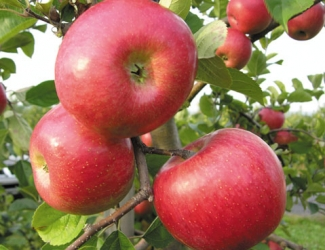apple: (54, 1, 197, 139), (151, 127, 290, 250), (26, 106, 137, 218)
